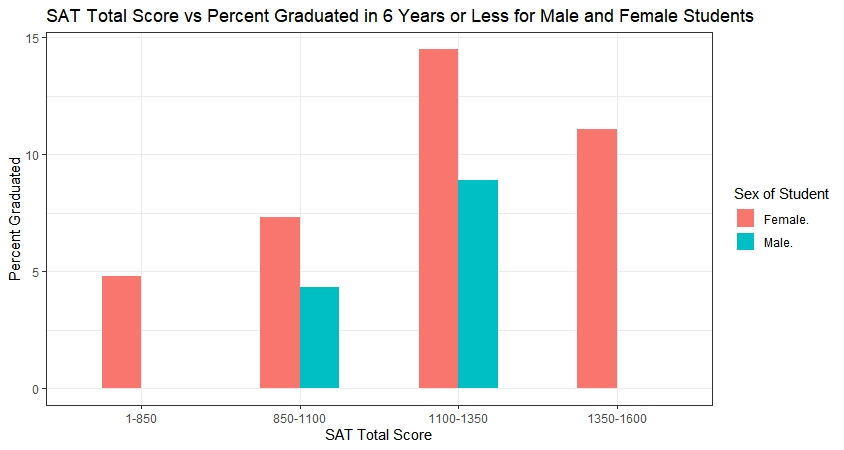

The dashboard page shown, as its layout file describes it:
{"tool":"tableau","page":{"name":"Dashboard 1","canvas":[800,500],"ordinal":0},"visuals":[{"type":"worksheet","title":"Sheet 1","mark":"Automatic","rows":["A","B"],"cols":["Agree (copy)_1437492741480001537","Calculation_1437492741479895040"],"box":[8,8,784,484]},{"type":"legend","title":"Sheet 1","param":"[federated.05f93y21k277er1e6bovs163s65s].[:Measure Names]","box":[223,61,336,34]}]}

Visuals, with their boxes on the page's 800x500 design canvas (x1, y1, x2, y2). These are canvas units, not pixel positions in the 844x450 screenshot, which may show the page scaled, cropped or inside an application window:
"Sheet 1" worksheet: bbox=(8, 8, 792, 492)
"Sheet 1" legend: bbox=(223, 61, 559, 95)
